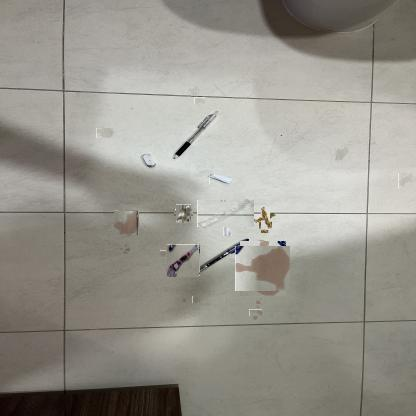dirty: (197, 200, 254, 228), (167, 244, 200, 277), (175, 205, 192, 223), (257, 210, 273, 226), (209, 174, 232, 184), (260, 220, 271, 232), (223, 226, 232, 236)
liquid: (238, 243, 288, 294), (113, 211, 139, 235), (398, 174, 413, 189), (335, 146, 349, 160), (96, 128, 113, 138), (250, 307, 260, 318), (189, 86, 199, 96), (194, 97, 205, 104), (121, 245, 129, 253), (192, 296, 200, 303), (160, 250, 166, 257), (257, 298, 264, 304)
